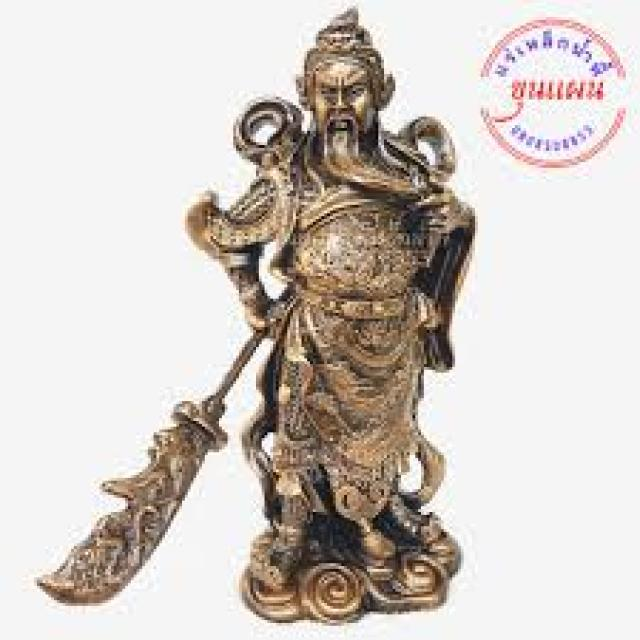Guan Yu: (182, 8, 480, 585)
